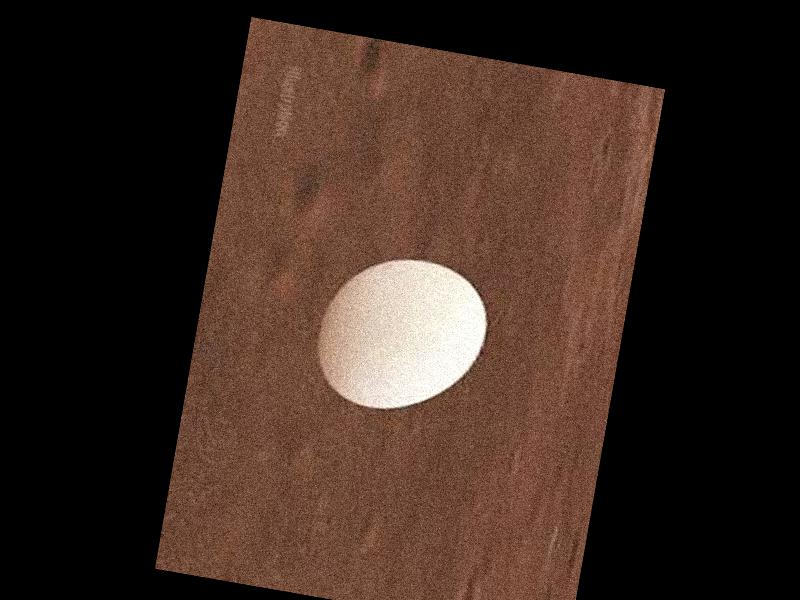Eggs: (308, 245, 495, 426)
